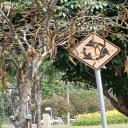Rotatoria: (68, 32, 122, 70)
